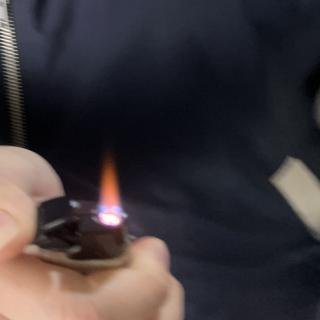fire: (98, 153, 126, 225)
